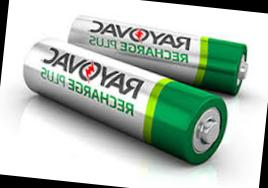battery: (9, 34, 250, 168), (51, 12, 263, 95)
